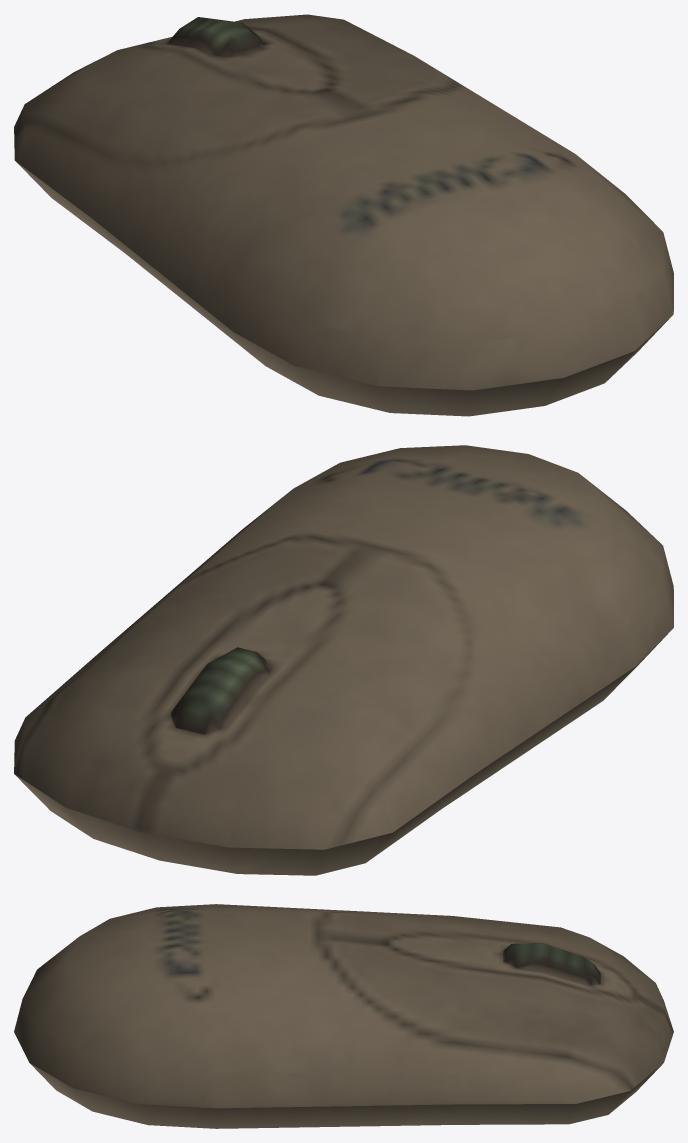
File: pc_mouse_mp_2.obj
3 renders of one model, top to bottom at view 1: azimuth 30°, elevation 25°; view 2: azimuth 150°, elevation 25°; view 3: azimuth 270°, elevation 25°, orthographic. The views are drawn at different scales.
Visible parts, largest first — view 1: pc_mouse_mp_2; view 2: pc_mouse_mp_2; view 3: pc_mouse_mp_2.
Part boxes in pixels (x1,y1,x2,y2): pc_mouse_mp_2: (14, 14, 673, 416); pc_mouse_mp_2: (14, 445, 673, 875); pc_mouse_mp_2: (14, 904, 673, 1128).
Bounding box in the file's own units: 0.0809 × 0.0315 × 0.1475.
